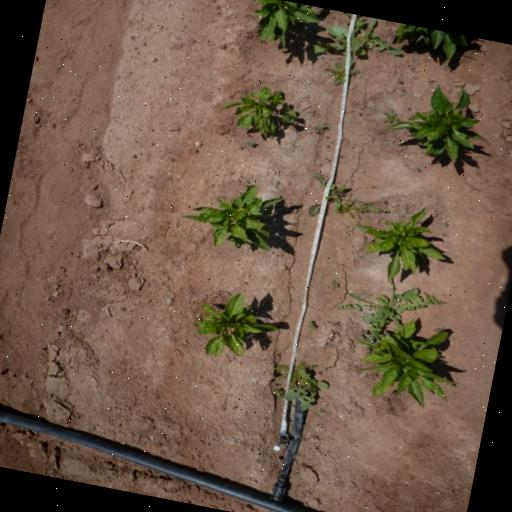plant: (176, 171, 290, 258), (347, 319, 459, 407), (184, 282, 286, 368), (390, 82, 489, 164), (347, 205, 447, 282), (212, 78, 302, 142), (230, 0, 322, 53), (390, 22, 472, 62)
weed: (333, 280, 449, 342), (299, 172, 394, 230), (344, 12, 405, 58), (308, 24, 366, 70), (284, 368, 329, 412), (271, 359, 320, 390), (320, 62, 362, 92), (379, 107, 401, 125), (311, 118, 329, 136), (270, 387, 284, 400), (304, 319, 316, 330), (329, 278, 340, 288), (244, 138, 254, 148), (432, 324, 444, 332), (316, 406, 325, 414), (300, 436, 308, 444), (331, 321, 341, 327), (396, 78, 402, 84), (400, 87, 406, 93), (382, 199, 388, 205), (443, 221, 449, 227), (414, 168, 422, 172), (338, 154, 345, 158), (326, 143, 330, 147)
